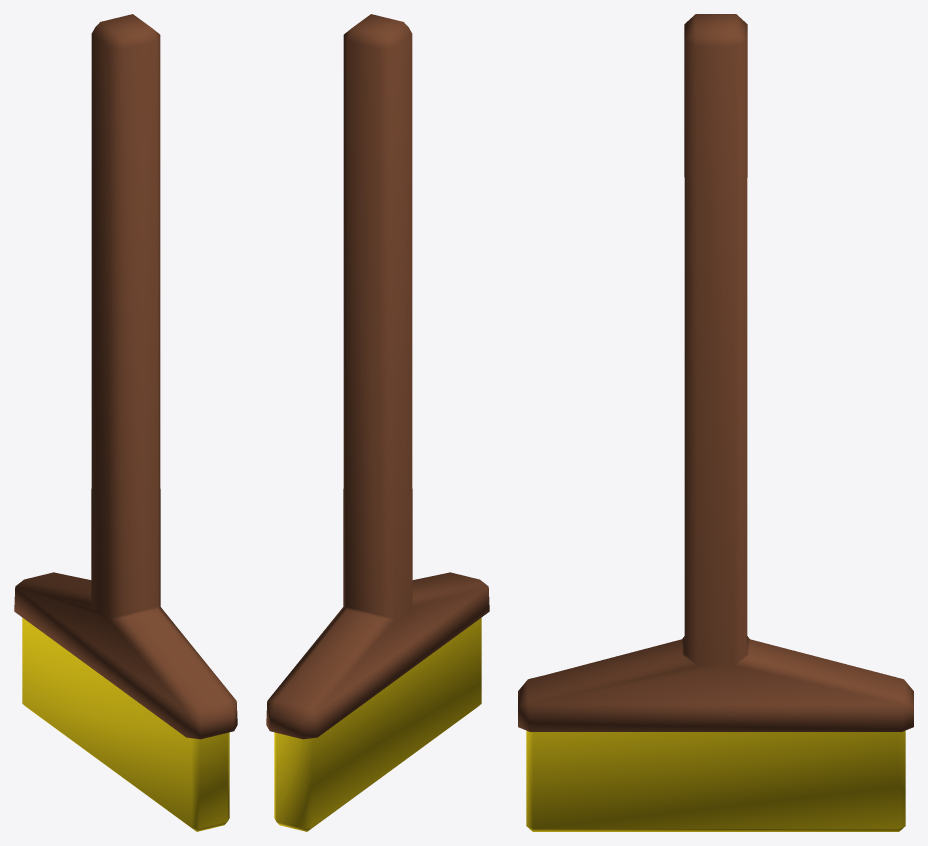
Rendered from broom.fbx.
3 views of the same model, side by side, from view 1: azimuth 30°, elevation 25°; view 2: azimuth 150°, elevation 25°; view 3: azimuth 270°, elevation 25° (orthographic). The views are drawn at different scales.
Visible parts, largest first — view 1: Cube; view 2: Cube; view 3: Cube.
Part boxes in pixels (x1=…): Cube: x1=14, y1=14, x2=237, y2=831; Cube: x1=266, y1=14, x2=489, y2=831; Cube: x1=518, y1=14, x2=913, y2=831.
Bounding box in the file's own units: 27.42 × 373 × 167.
